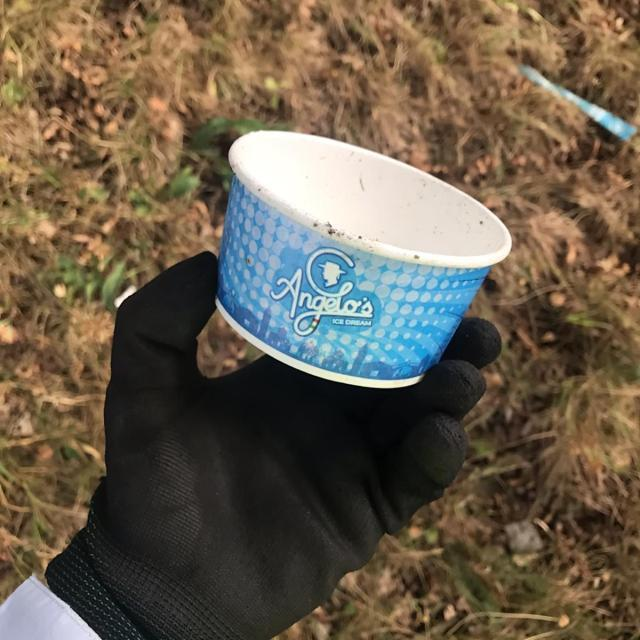Paper: (212, 127, 514, 390)
